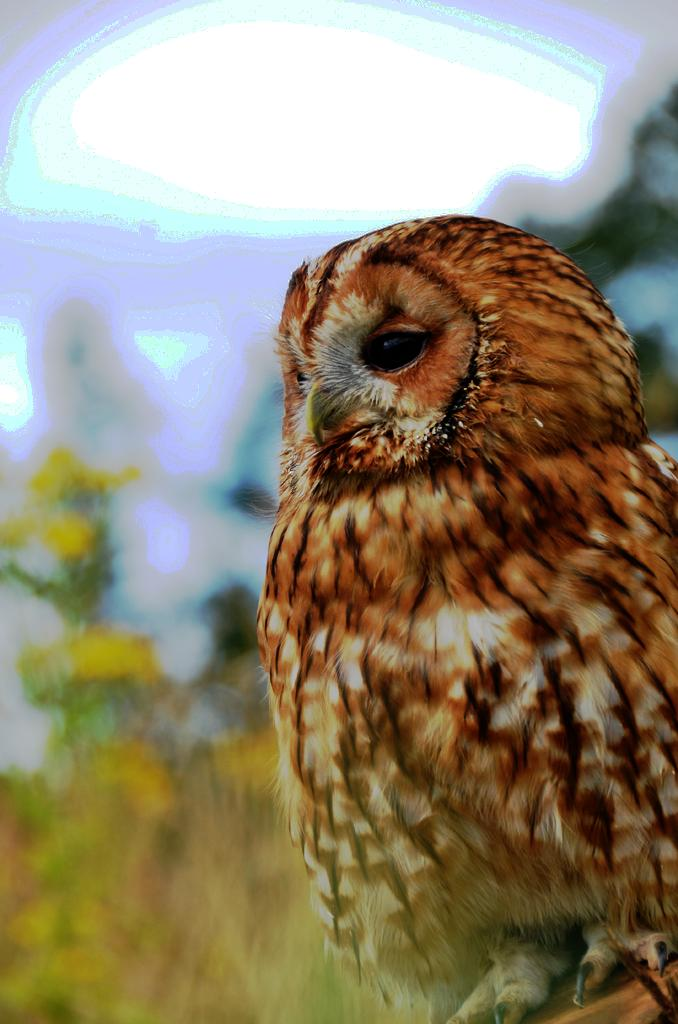Owl: (264, 205, 637, 912)
